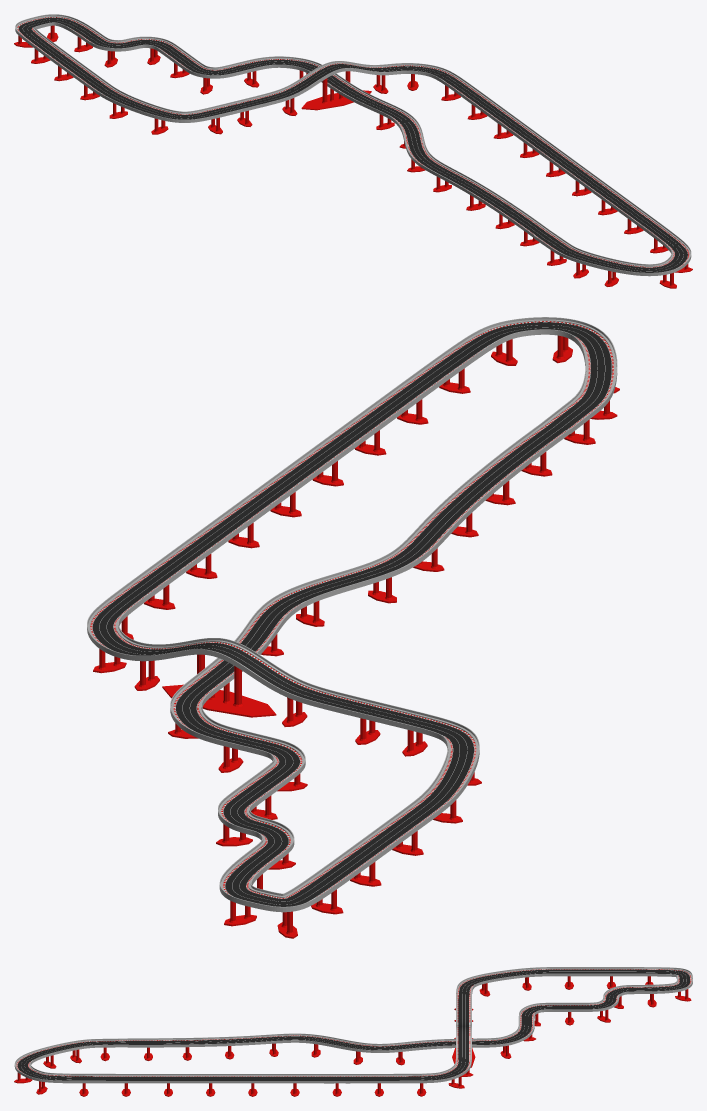
The model's file is carretera con soportes tricarril.fbx.
3 views of the same model, one above another, from view 1: azimuth 30°, elevation 25°; view 2: azimuth 150°, elevation 25°; view 3: azimuth 270°, elevation 25° (orthographic). The views are drawn at different scales.
Parts seen in each view (by area): view 1: carretera, Cilindro.001; view 2: carretera, Cilindro.001; view 3: carretera.
Boxes of the visible parts, bbox=[...] form: carretera: bbox=[15, 14, 691, 276]; Cilindro.001: bbox=[301, 71, 371, 110]; carretera: bbox=[87, 317, 617, 912]; Cilindro.001: bbox=[162, 654, 276, 717]; carretera: bbox=[14, 967, 692, 1083].
Size of the model in its own units: 1289 by 149 by 3219.
